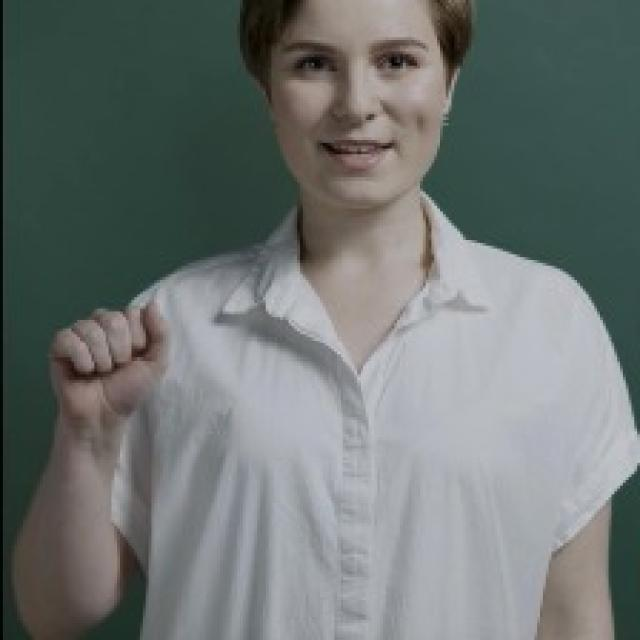yes: (42, 292, 177, 419)
